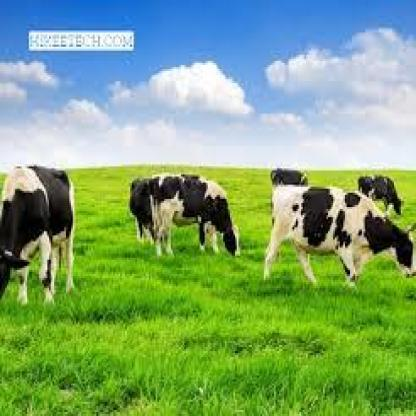cow: (264, 184, 416, 287), (0, 164, 76, 306), (150, 171, 242, 259), (129, 171, 219, 244), (358, 174, 403, 216), (270, 166, 308, 187)
